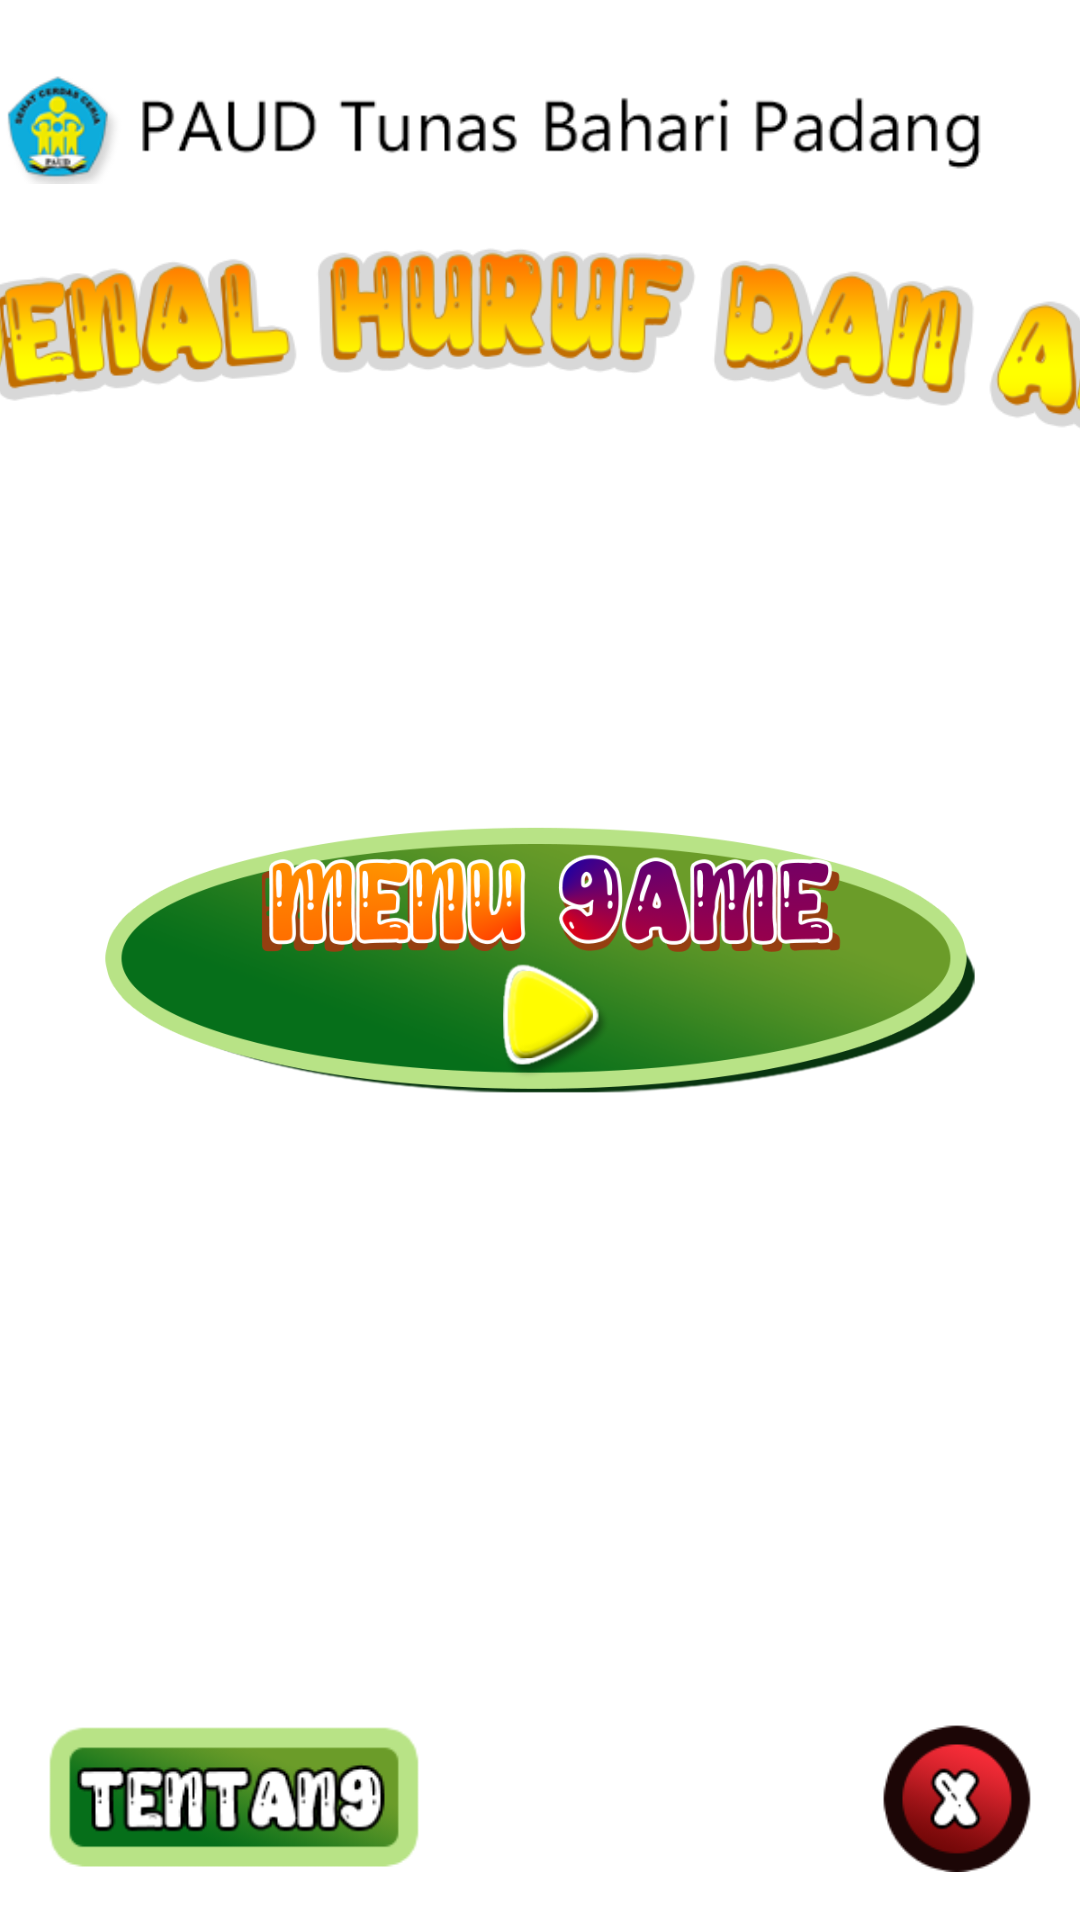

Where to tap for icons on this 1080px x 1920px app screen, as (x,y):
keluar: (957,1798)
